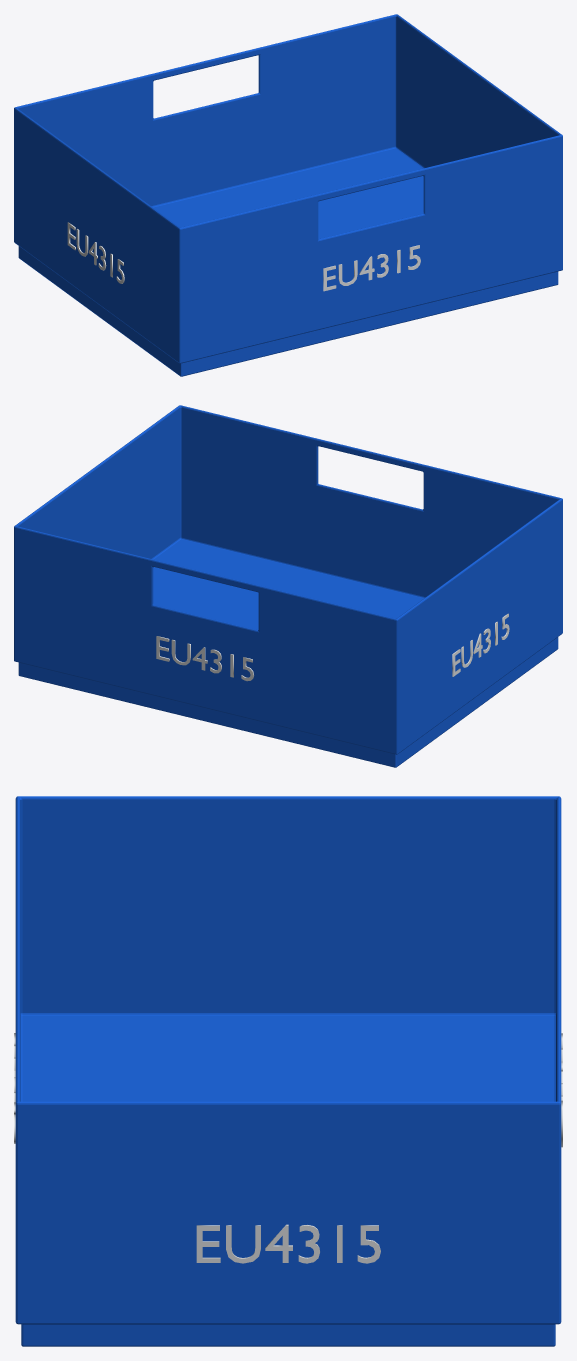
3 views of the same model, one above another, from view 1: azimuth 30°, elevation 25°; view 2: azimuth 150°, elevation 25°; view 3: azimuth 270°, elevation 25° (orthographic). The views are drawn at different scales.
Parts seen in each view (by area): view 1: eurobox-400x300x150; view 2: eurobox-400x300x150; view 3: eurobox-400x300x150.
Boxes of the visible parts, x1,y1,x2,y2 form: eurobox-400x300x150: (14,14,562,376); eurobox-400x300x150: (14,405,562,767); eurobox-400x300x150: (14,796,562,1346).
Size of the model in its own units: 0.402 by 0.15 by 0.302.
